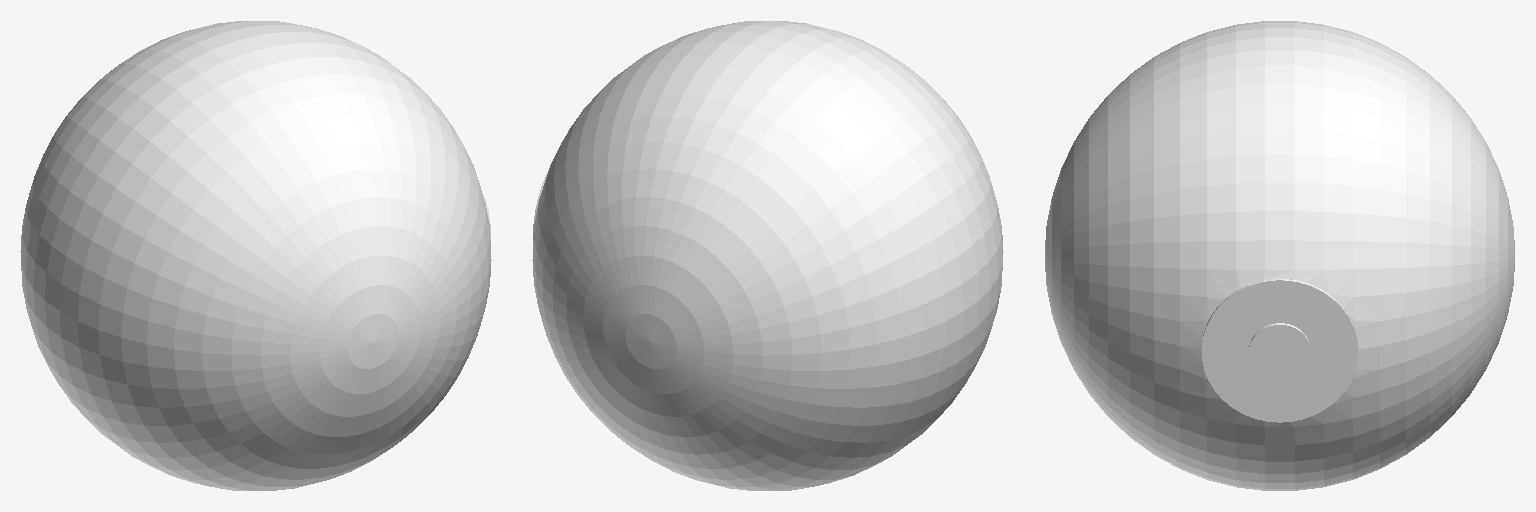
The robot description file, URDF, robot "eye_right":
<?xml version="1.0" encoding="utf-8"?>
<!-- This URDF was automatically created by SolidWorks to URDF Exporter! Originally created by [author] ([email redacted]) 
         Commit Version: 1.6.0-4-g7f85cfe    Build Version: 1.6.7995.38578
         For more information, please see http://wiki.ros.org/sw_urdf_exporter -->
<robot
    name="eye_right">
    <link
        name="white_ball">
        <inertial>
            <origin
                xyz="-3.4834E-05 -1.3674E-20 6.1753E-09"
                rpy="0 0 0" />
            <mass
                value="0.014103" />
            <inertia
                ixx="1.2721E-06"
                ixy="-9.7695E-24"
                ixz="-9.2234E-13"
                iyy="1.2651E-06"
                iyz="-4.039E-25"
                izz="1.2651E-06" />
        </inertial>
        <visual>
            <origin
                xyz="0 0 0"
                rpy="0 0 0" />
            <geometry>
                <mesh
                    filename="package://head_sim/meshes/eye_white_ball.STL" />
            </geometry>
            <material
                name="">
                <color
                    rgba="1 1 1 1" />
            </material>
        </visual>
        <collision>
            <origin
                xyz="0 0 0"
                rpy="0 0 0" />
            <geometry>
                <mesh
                    filename="package://head_sim/meshes/eye_white_ball.STL" />
            </geometry>
        </collision>
    </link>
    <link
        name="component_1">
        <inertial>
            <origin
                xyz="4E-08 0 -2.6597E-19"
                rpy="0 0 0" />
            <mass
                value="1.9635E-05" />
            <inertia
                ixx="2.4544E-10"
                ixy="2.3715E-44"
                ixz="0"
                iyy="1.2282E-10"
                iyz="0"
                izz="1.2282E-10" />
        </inertial>
        <visual>
            <origin
                xyz="0 0 0"
                rpy="0 0 0" />
            <geometry>
                <mesh
                    filename="package://head_sim/meshes/eye_component_1.STL" />
            </geometry>
            <material
                name="">
                <color
                    rgba="1 1 1 1" />
            </material>
        </visual>
        <collision>
            <origin
                xyz="0 0 0"
                rpy="0 0 0" />
            <geometry>
                <mesh
                    filename="package://head_sim/meshes/eye_component_1.STL" />
            </geometry>
        </collision>
    </link>
    <joint
        name="joint_1"
        type="fixed">
        <origin
            xyz="0.014267 0 0"
            rpy="0 0 0" />
        <parent
            link="white_ball" />
        <child
            link="component_1" />
        <axis
            xyz="0 0 0" />
    </joint>
    <link
        name="component_2">
        <inertial>
            <origin
                xyz="4E-08 0 9.2668E-20"
                rpy="0 0 0" />
            <mass
                value="3.1416E-06" />
            <inertia
                ixx="6.2832E-12"
                ixy="1.5178E-45"
                ixz="2.3393E-45"
                iyy="3.158E-12"
                iyz="0"
                izz="3.158E-12" />
        </inertial>
        <visual>
            <origin
                xyz="0 0 0"
                rpy="0 0 0" />
            <geometry>
                <mesh
                    filename="package://head_sim/meshes/eye_component_2.STL" />
            </geometry>
            <material
                name="">
                <color
                    rgba="1 1 1 1" />
            </material>
        </visual>
        <collision>
            <origin
                xyz="0 0 0"
                rpy="0 0 0" />
            <geometry>
                <mesh
                    filename="package://head_sim/meshes/eye_component_2.STL" />
            </geometry>
        </collision>
    </link>
    <joint
        name="joint_2"
        type="fixed">
        <origin
            xyz="0.00025 0 0"
            rpy="0 0 0" />
        <parent
            link="component_1" />
        <child
            link="component_2" />
        <axis
            xyz="0 0 0" />
    </joint>

    <!-- <link name="world" />
    <joint name="fixed" type="fixed">
        <parent link="world" />
        <child link="white_ball" />
        <origin xyz="0.029149 0.03065 0.157526" />
    </joint> -->

    <gazebo reference="white_ball">
        <material>Gazebo/White</material>
        <gravity>false</gravity>
    </gazebo>
    <gazebo reference="component_1">
        <material>Gazebo/Orange</material>
    </gazebo>
    <gazebo reference="component_2">
        <material>Gazebo/Black</material>
    </gazebo>
</robot>

--- What the picture shows (computed from the rendered views, not written in the file) ---
3 views of the same robot in one strip: view 1: azimuth 30°, elevation 25°; view 2: azimuth 150°, elevation 25°; view 3: azimuth 270°, elevation 25° (orthographic).
Robot: eye_right — 3 links, 2 joints (2 fixed); root link white_ball; default pose: every joint at zero.
Links seen in each view (by area): view 1: white_ball; view 2: white_ball; view 3: white_ball, component_1, component_2.
Link boxes in pixels (left/top/right/bottom): white_ball: left=20, top=21, right=491, bottom=490; white_ball: left=532, top=21, right=1003, bottom=490; white_ball: left=1045, top=21, right=1514, bottom=490; component_1: left=1202, top=279, right=1357, bottom=422; component_2: left=1249, top=323, right=1310, bottom=381.
Size in the robot's own frame: 0.0296 by 0.03 by 0.0299 metres.
Meshes: 3 distinct files referenced, 3 mesh visuals loaded (3 binary STL).
